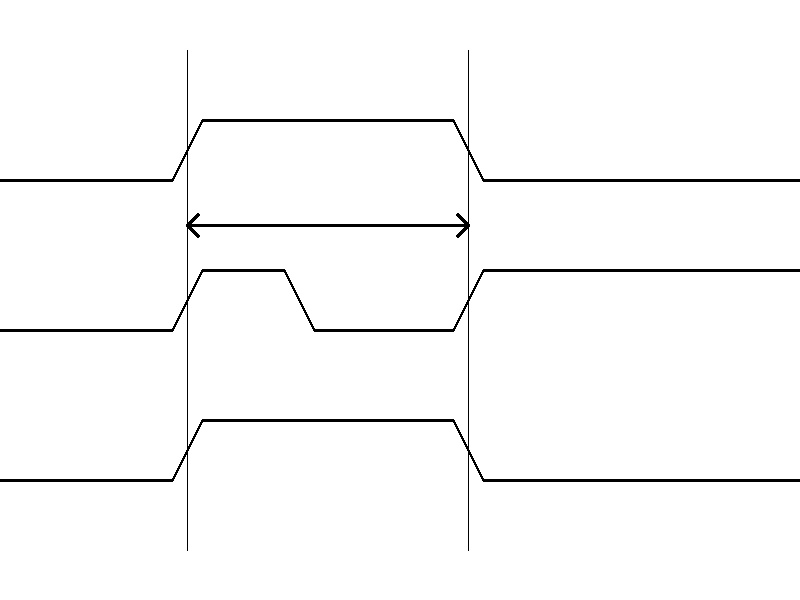double_arrow: (187, 210, 468, 240)
